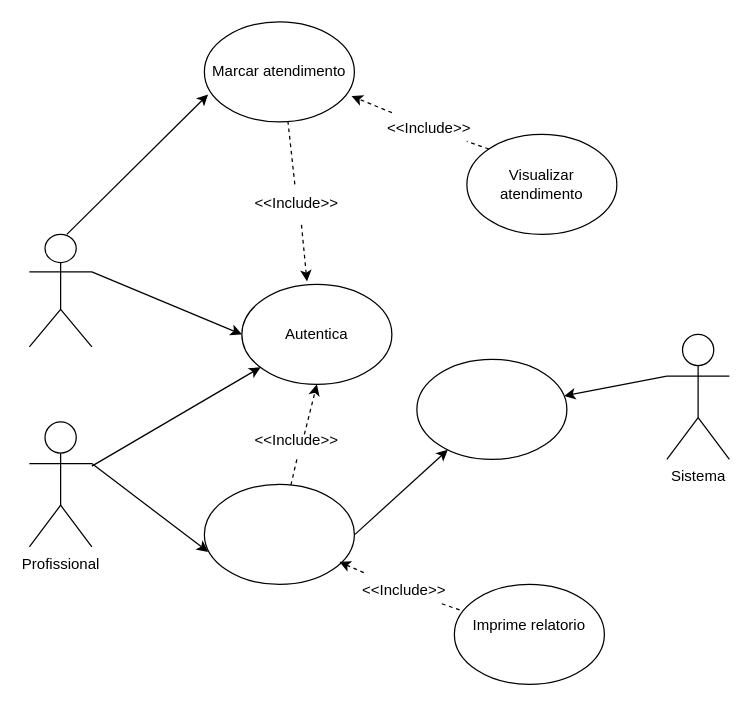
Some shapes in this 751 by 706 pixel diagram are drawn without their labels. The shapes that lost their labels are listed below. From the top down, each one's centre as x and y in pixels, then its label:
[60,290]: Cliente
[491,408]: Validar Conflitos
[278,533]: Gerenciar atendimento
